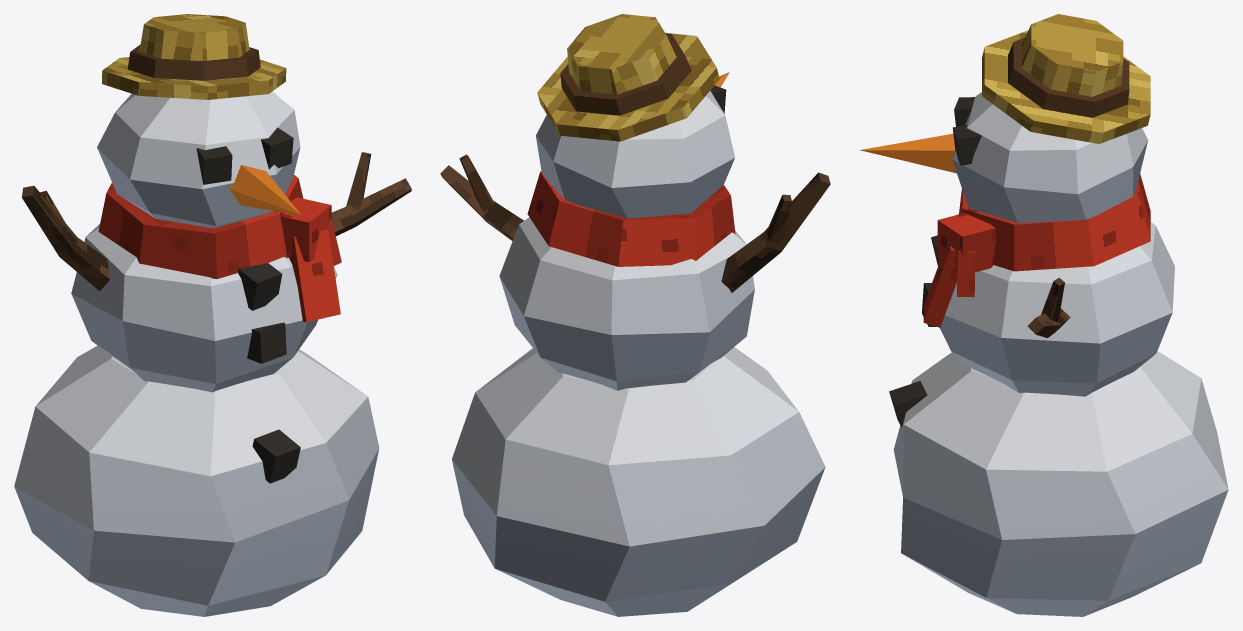
Rendered from snowman.glb.
3 views of the same model, side by side, from view 1: azimuth 30°, elevation 25°; view 2: azimuth 150°, elevation 25°; view 3: azimuth 270°, elevation 25° (orthographic).
Visible parts, largest first — view 1: snowman; view 2: snowman; view 3: snowman.
Part boxes in pixels (x1,y1,x2,y2): snowman: [14, 14, 411, 616]; snowman: [440, 14, 830, 616]; snowman: [859, 14, 1228, 616].
Bounding box in the file's own units: 1.14 × 1.56 × 0.9453.
7 materials, 3 textured.
